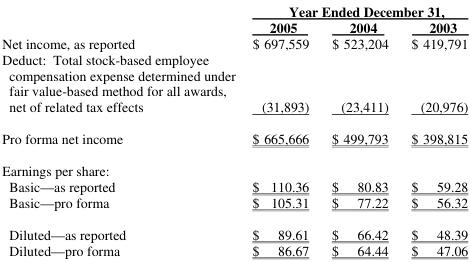table: (1, 1, 467, 259)
table column: (1, 1, 243, 259), (319, 1, 399, 259), (243, 1, 319, 259), (399, 1, 467, 259)
table column header: (1, 1, 467, 34)
table projected row header: (1, 154, 467, 177)
table row: (1, 50, 467, 122), (1, 122, 467, 154), (1, 193, 467, 217), (1, 217, 467, 241), (1, 154, 467, 177), (1, 241, 467, 259), (1, 1, 467, 18), (1, 18, 467, 34), (1, 34, 467, 50), (1, 177, 467, 193)
table spanning cell: (243, 1, 467, 18)
